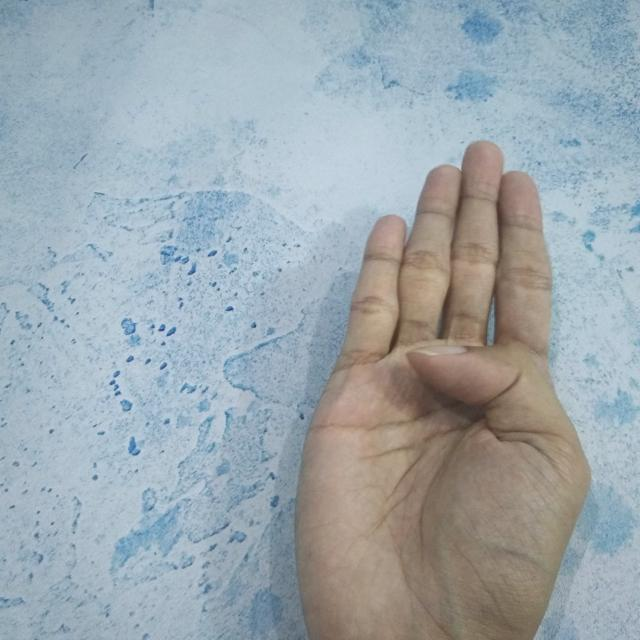B: (287, 141, 590, 640)
